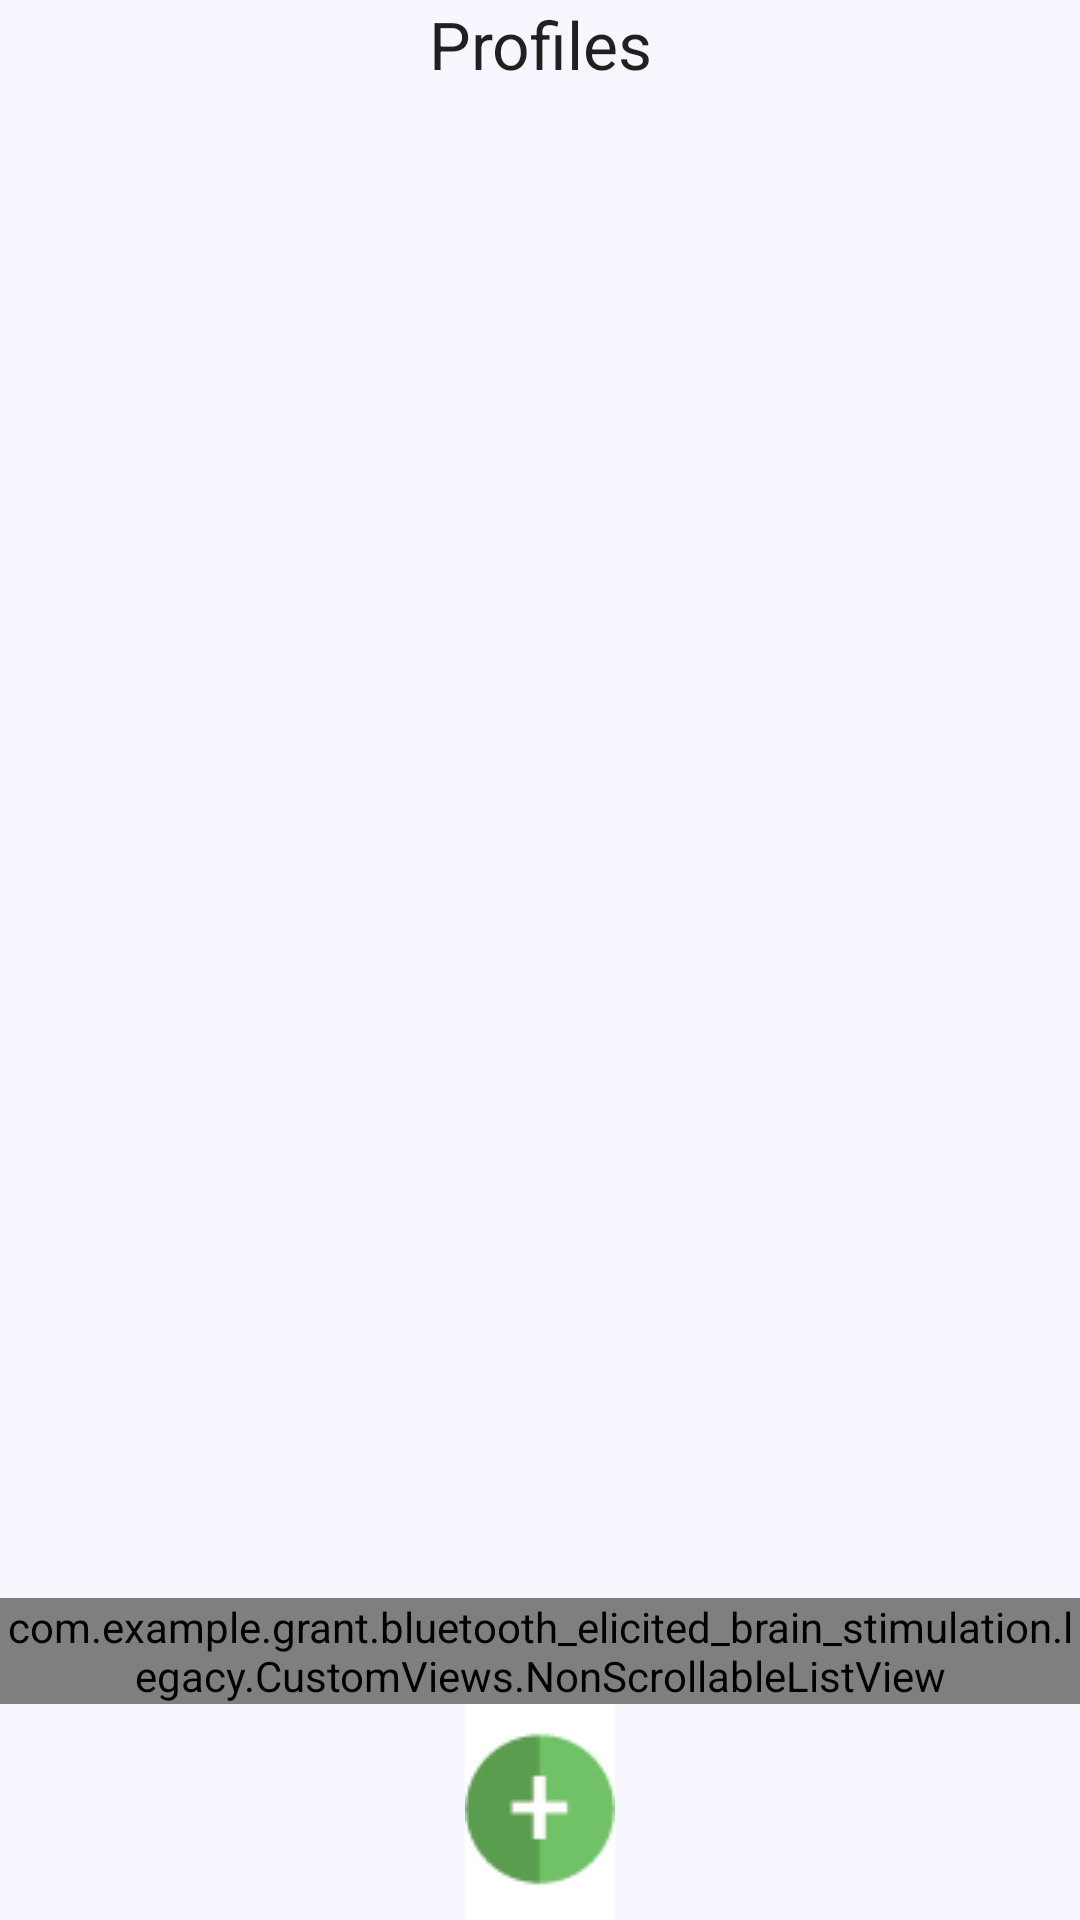

Locate icon controls on the screen. Image size 1080px x 1920px, boxes as (x1, y1, x2, y2).
add: (465, 1733, 615, 1885)
